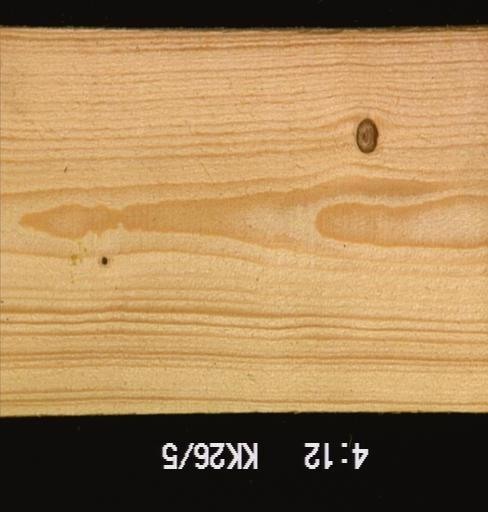dry_knot: (353, 116, 381, 156)
small_knot: (96, 252, 112, 270)
